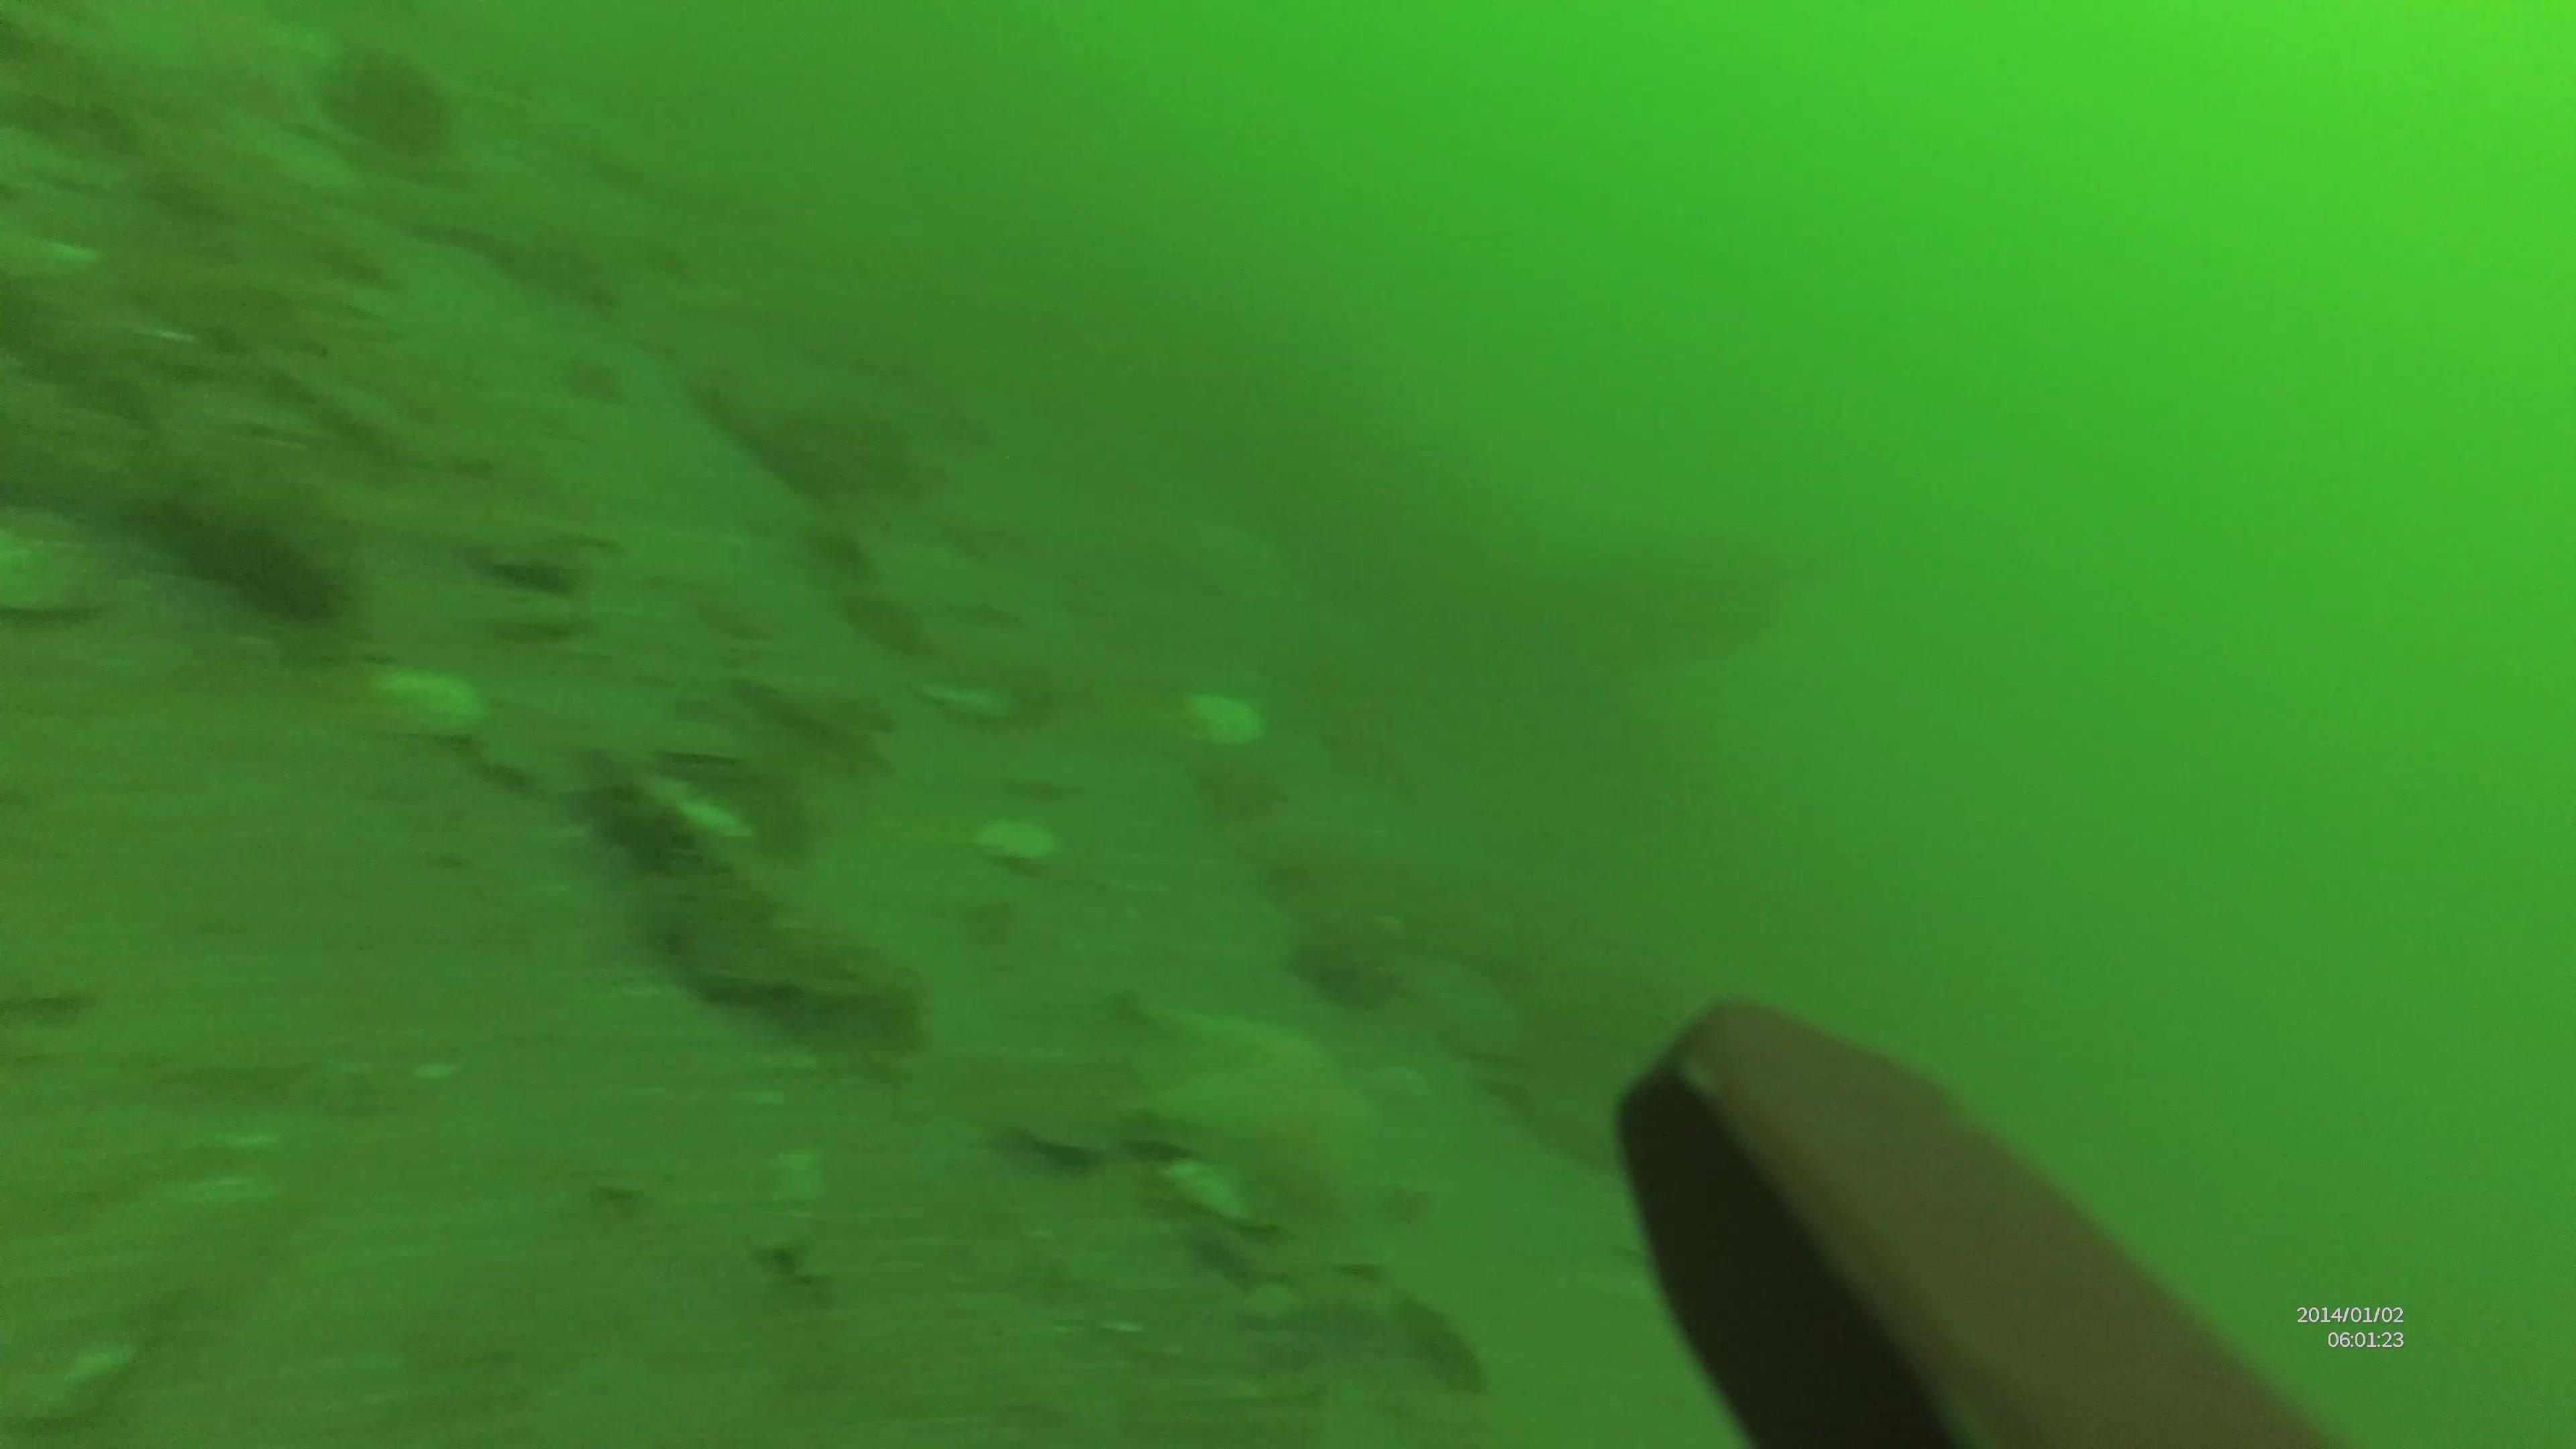starfish: (1109, 980, 1419, 1267)
